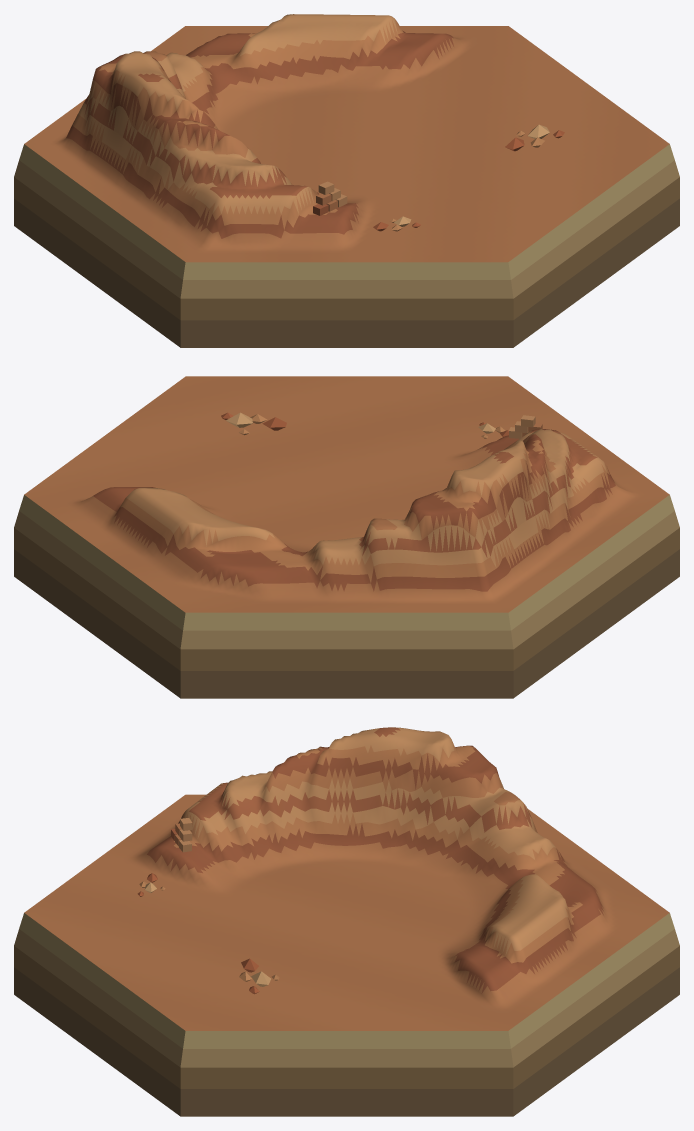
File: catan_terrain_clay_01.glb
3 renders of one model, top to bottom at view 1: azimuth 30°, elevation 25°; view 2: azimuth 150°, elevation 25°; view 3: azimuth 270°, elevation 25°, orthographic.
Parts seen in each view (by area): view 1: catan_terrain_clay_01_ground, catan_terrain_clay_01_decoration; view 2: catan_terrain_clay_01_ground, catan_terrain_clay_01_decoration; view 3: catan_terrain_clay_01_ground, catan_terrain_clay_01_decoration.
Part boxes in pixels (x1,y1,x2,y2): catan_terrain_clay_01_ground: (14, 14, 679, 347); catan_terrain_clay_01_decoration: (313, 124, 564, 231); catan_terrain_clay_01_ground: (14, 376, 679, 698); catan_terrain_clay_01_decoration: (221, 412, 542, 438); catan_terrain_clay_01_ground: (14, 727, 679, 1116); catan_terrain_clay_01_decoration: (137, 818, 279, 994).
Size of the model in its own units: 1.71 by 0.5795 by 1.97.
